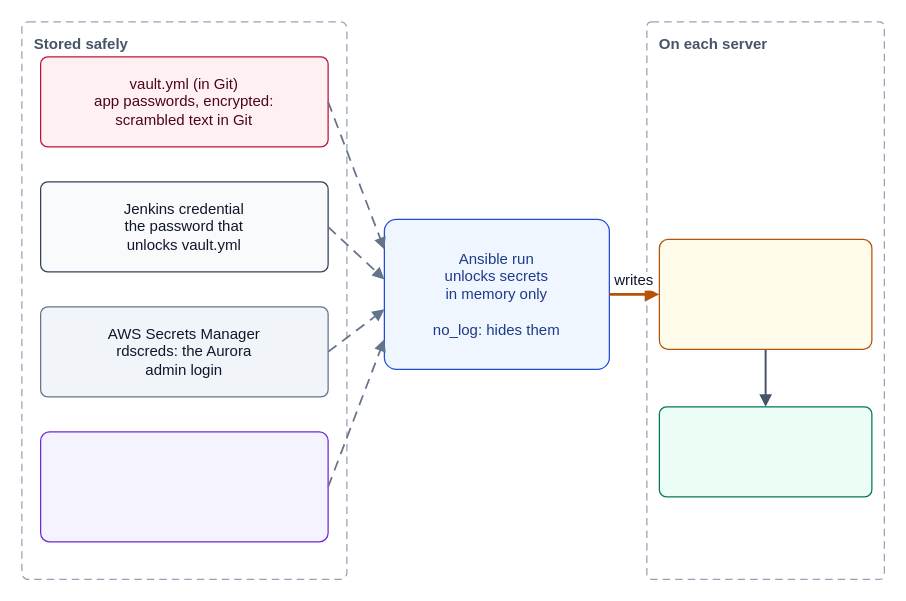
Some shapes in this 906 by 601 pixel diagram are drawn without their labels. The shapes that lost their labels are listed below. From the top down, each one's centre as x and y in pixels, then its label:
At point 765,293: "/etc/roboshop/ shipping.env etc. readable by root only (mode 0600)".
At point 765,451: "The service reads its passwords when it starts".
At point 183,486: "SSH key taken from Terraform for the run, then deleted (never committed)".
